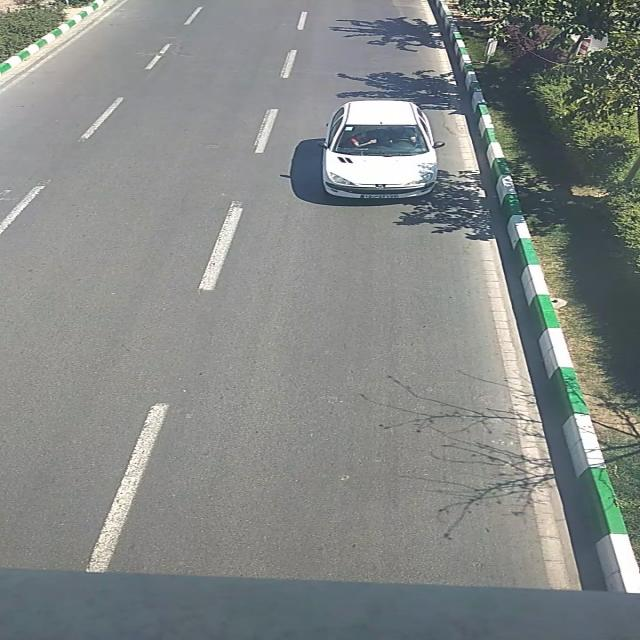car: (319, 99, 446, 199)
